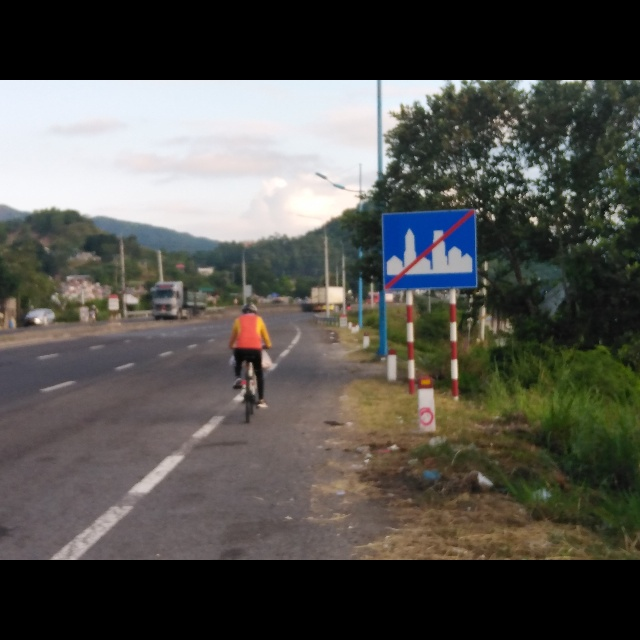Hết khu đông dân cư: (379, 207, 480, 291)
